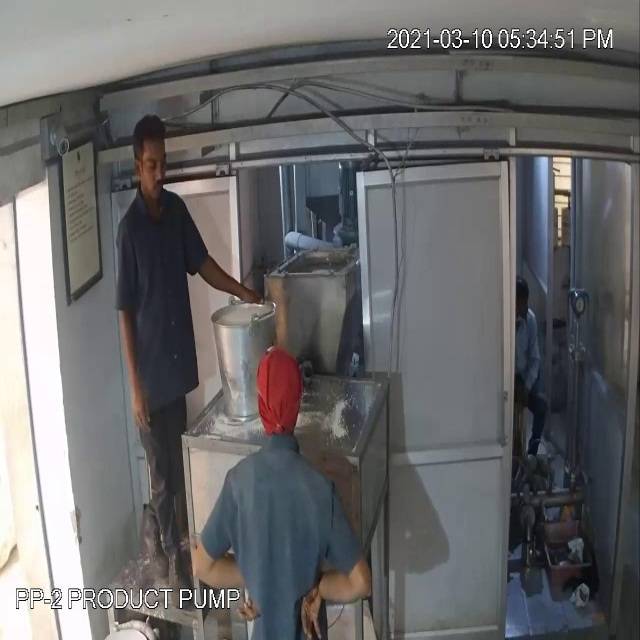Sin_guantes: (292, 536, 380, 640), (111, 279, 161, 454), (188, 241, 274, 332)
